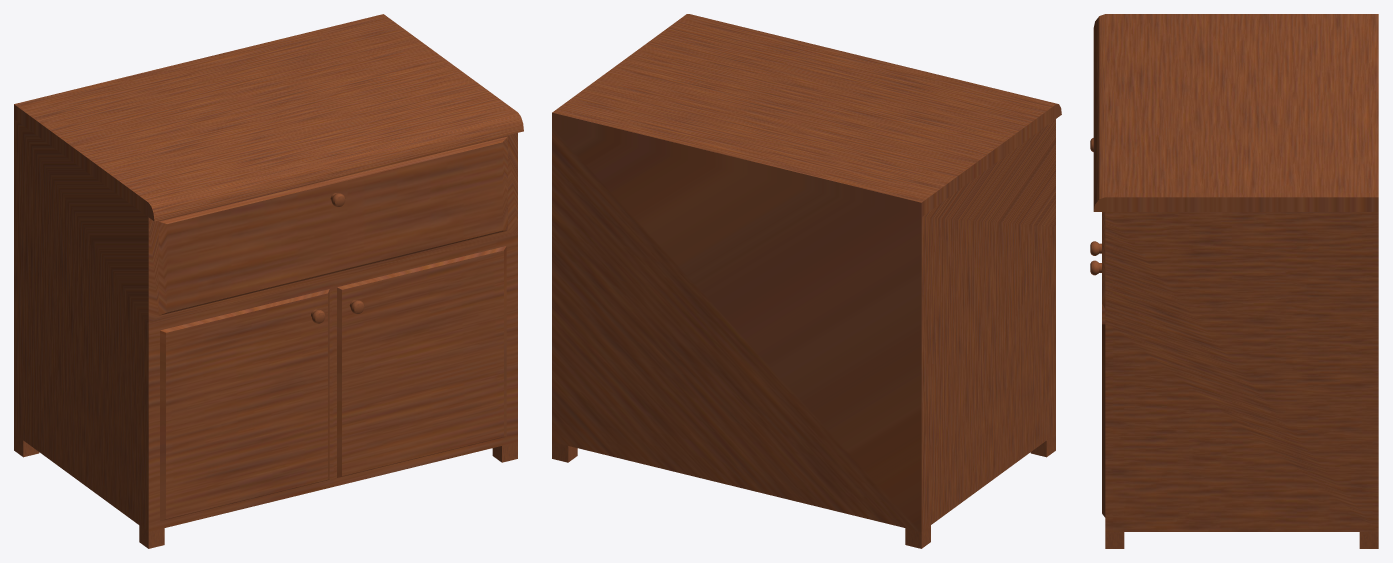
The model's file is K_chenschrank_geschlossen_1.fbx.
3 views of the same model, side by side, from view 1: azimuth 30°, elevation 25°; view 2: azimuth 150°, elevation 25°; view 3: azimuth 270°, elevation 25° (orthographic).
Parts seen in each view (by area): view 1: Küchenschrank 1; view 2: Küchenschrank 1; view 3: Küchenschrank 1.
Boxes of the visible parts, x1,y1,x2,y2 form: Küchenschrank 1: [14, 14, 523, 548]; Küchenschrank 1: [552, 14, 1061, 548]; Küchenschrank 1: [1090, 14, 1378, 548].
Size of the model in its own units: 1 by 0.8954 by 0.6655.
